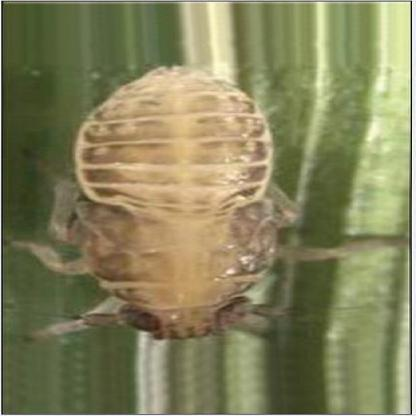brown-planthopper: (67, 64, 288, 340)
